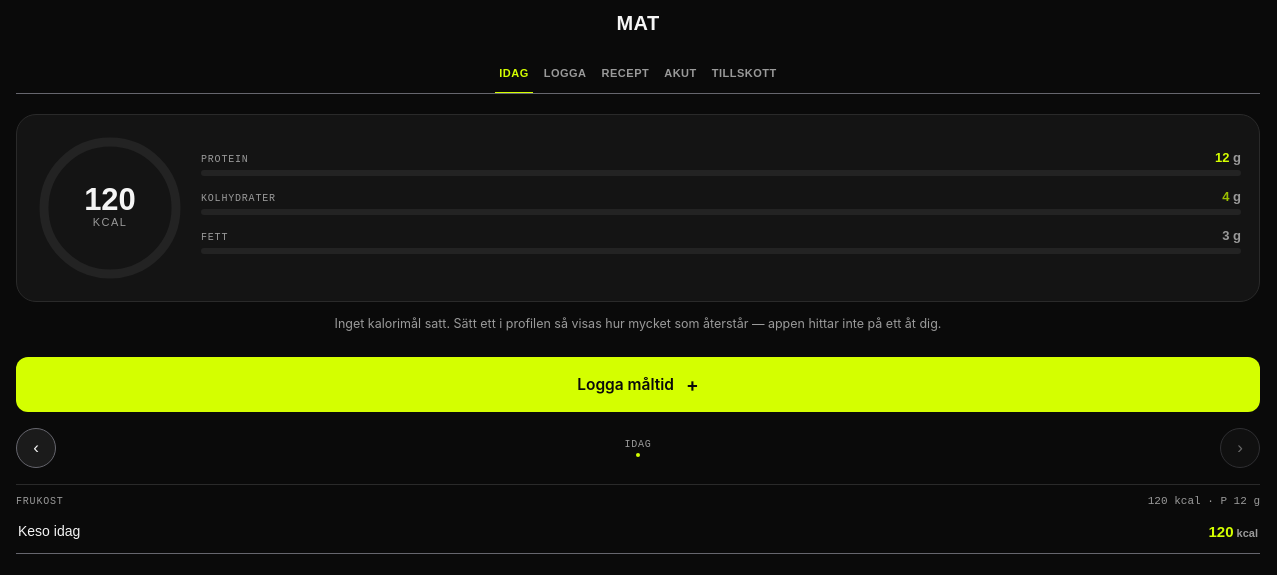
matvyn: dagsväljare och flytt › bakåtpilen visar gårdagens logg
This screenshot has width=1277, height=575.
What coordinates should you click on to do the following:
click the button "‹"
I would click on:
 (36, 448)
Its box is top-left (16, 428), bottom-right (56, 468).
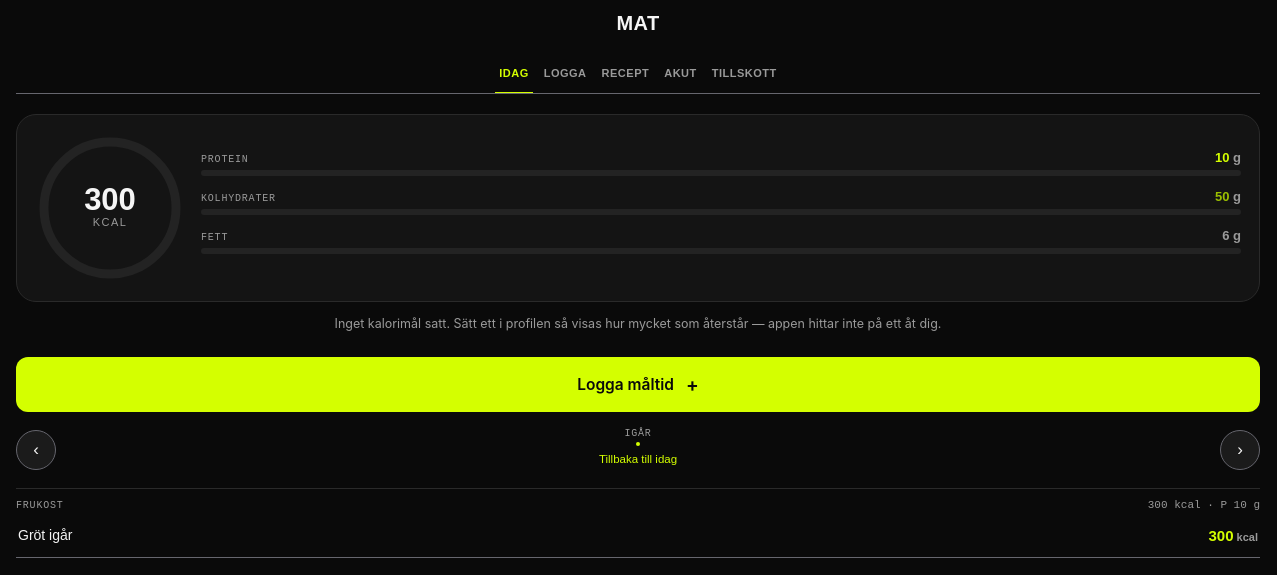
Now the text "Igår" is shown, box top-left (624, 428), bottom-right (652, 439)
Now the text "Gröt igår" is shown, box top-left (18, 527), bottom-right (72, 543)
Now the text "Keso idag" is gone
